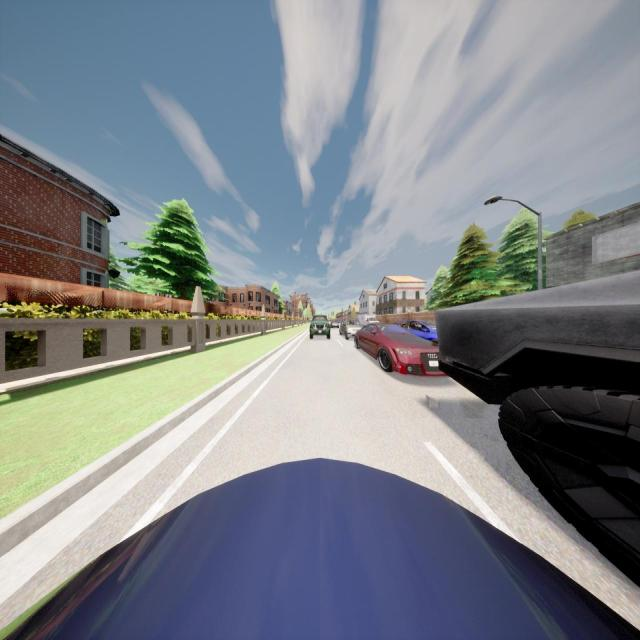Vehicle: (0, 457, 640, 640), (436, 286, 640, 582), (354, 322, 449, 378), (392, 320, 438, 343), (310, 314, 330, 339), (339, 320, 362, 340), (358, 314, 378, 322), (331, 319, 339, 329)
